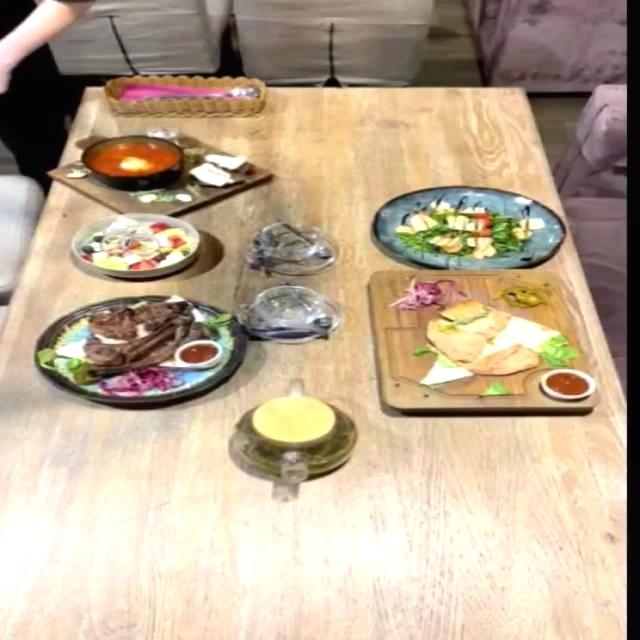meat: (362, 267, 604, 412), (34, 294, 250, 404)
salad: (376, 185, 568, 268), (70, 212, 202, 276)
soup: (47, 127, 274, 217)
tea: (231, 393, 361, 483)
